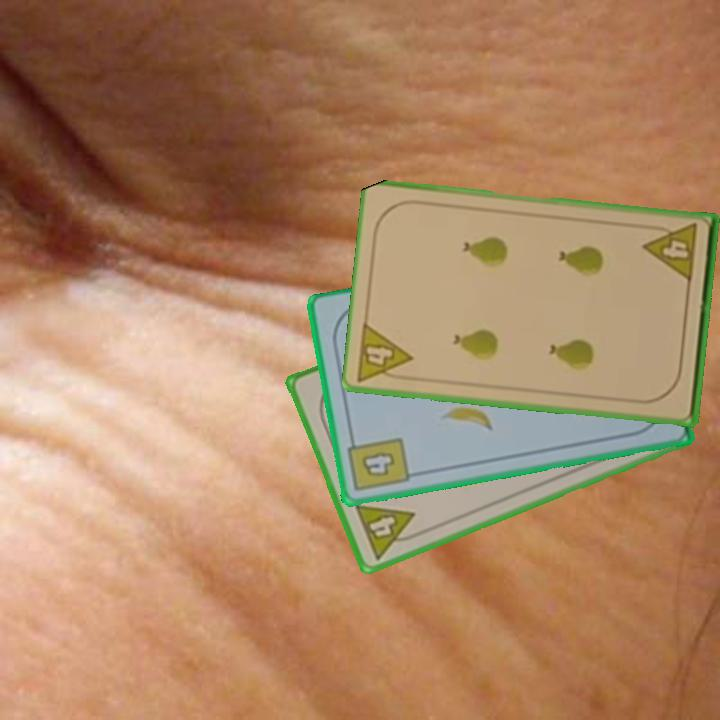4b: (344, 431, 413, 495)
4p: (351, 500, 425, 562), (354, 319, 416, 385), (641, 220, 699, 285)
